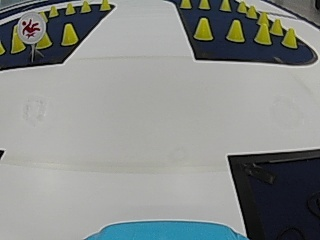cone: (194, 17, 213, 41), (254, 20, 271, 45), (226, 19, 244, 42), (61, 23, 77, 46), (281, 27, 297, 49), (270, 18, 282, 35), (247, 4, 257, 19), (48, 5, 59, 17), (65, 2, 75, 15), (220, 0, 230, 12), (81, 1, 91, 13), (199, 0, 210, 10), (100, 0, 110, 11), (238, 0, 246, 13), (180, 0, 191, 9)
tumble: (18, 13, 44, 40)
